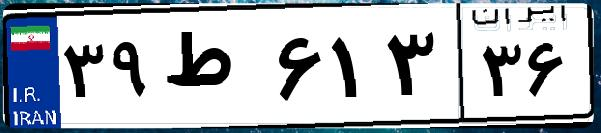1: (330, 28, 385, 110)
3: (385, 28, 445, 110), (57, 26, 110, 100), (475, 38, 525, 113)
6: (270, 28, 330, 110), (525, 38, 570, 115)
9: (110, 28, 158, 98)
ط: (158, 20, 270, 120)
